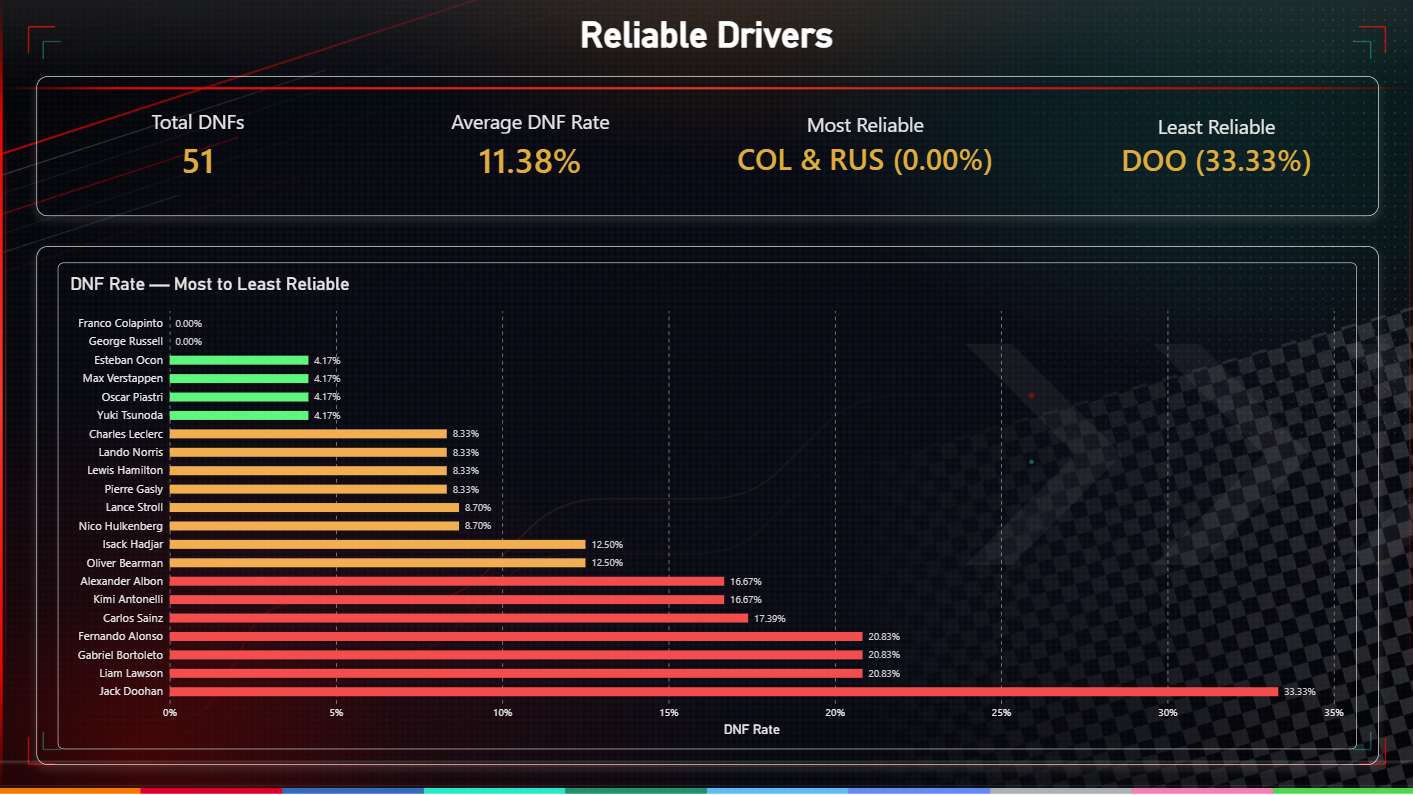

This screenshot's page, from the dashboard's own definition file:
{"tool":"powerbi","page":{"name":"Reliability","canvas":[1920,1080],"ordinal":2},"visuals":[{"type":"shape","box":[50,333.3,1820,703.3],"z":0},{"type":"shape","box":[50.8,103.1,1820,189.2],"z":1000},{"type":"barChart","title":"DNF Rate — Most to Least Reliable","fields":{"Category":["2025_master_summary.Full Name"],"Y":["Sum(2025_master_summary.DNF Rate)"]},"box":[80,355.4,1761.5,660],"z":2000},{"type":"cardVisual","fields":{"Data":["2025_master_summary.Total DNFs"]},"box":[80,122.9,380,150],"z":3000},{"type":"cardVisual","fields":{"Data":["2025_master_summary.Average DNF Rate"]},"box":[530,122.5,380,150],"z":4000},{"type":"cardVisual","fields":{"Data":["2025_master_summary.MostReliable"]},"box":[980,122.5,390,150],"z":5000},{"type":"cardVisual","fields":{"Data":["2025_master_summary.Least Reliable"]},"box":[1461.4,124.3,380,150],"z":6000},{"type":"textbox","box":[698.3,18.3,522.5,85],"z":7000}]}

Visuals, with their boxes in screenshot pixels (x1, y1, x2, y2), scaled from the page's 1920x1080 canvas onto the 1413x795 screenshot:
shape: detection(37, 245, 1376, 763)
shape: detection(37, 76, 1377, 215)
"DNF Rate — Most to Least Reliable" barChart: detection(59, 262, 1355, 747)
cardVisual - 2025_master_summary.Total DNFs: detection(59, 90, 339, 201)
cardVisual - 2025_master_summary.Average DNF Rate: detection(390, 90, 670, 201)
cardVisual - 2025_master_summary.MostReliable: detection(721, 90, 1008, 201)
cardVisual - 2025_master_summary.Least Reliable: detection(1075, 91, 1355, 202)
textbox: detection(514, 13, 898, 76)
